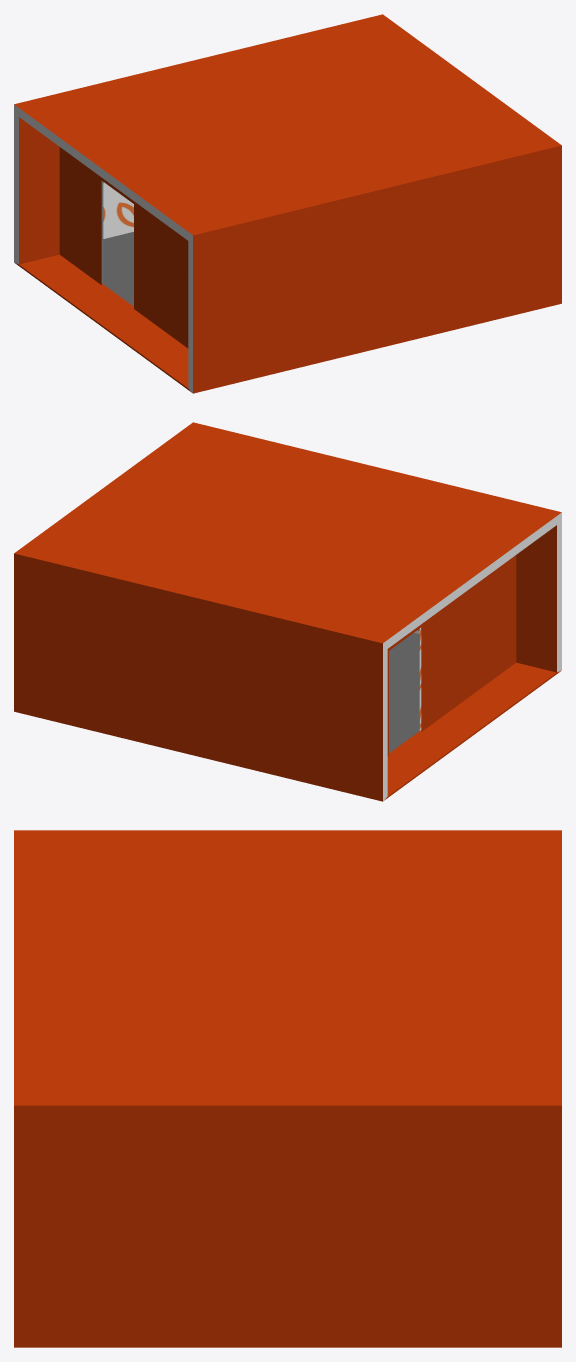
File: Middle_Room - CFS.fbx
3 views of the same model, one above another, from view 1: azimuth 30°, elevation 25°; view 2: azimuth 150°, elevation 25°; view 3: azimuth 270°, elevation 25° (orthographic). The views are drawn at different scales.
Parts seen in each view (by area): view 1: CFS_Middle_Room; view 2: CFS_Middle_Room; view 3: CFS_Middle_Room.
Boxes of the visible parts, <box> form: CFS_Middle_Room: <box>14,14,561,393</box>; CFS_Middle_Room: <box>14,422,561,801</box>; CFS_Middle_Room: <box>14,830,561,1347</box>.
Size of the model in its own units: 8753 by 3588 by 7365.
